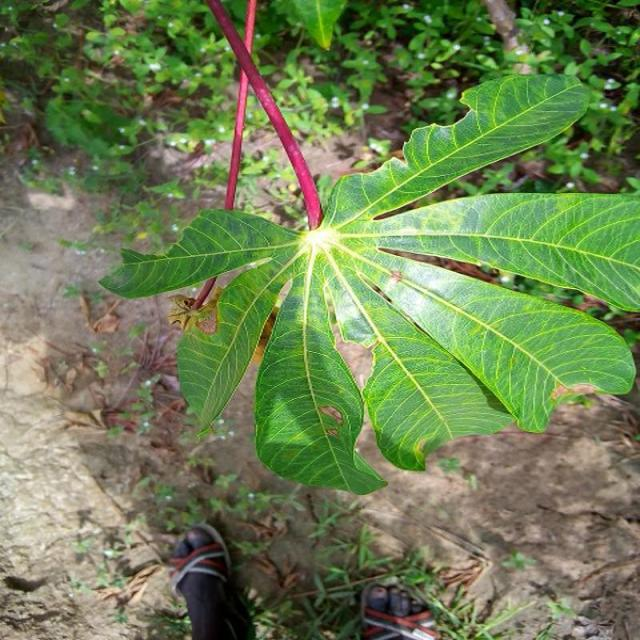cassava leaf: (99, 10, 638, 495)
